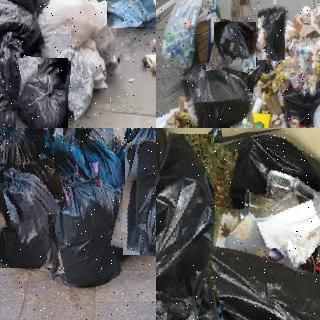Garbage: (169, 128, 320, 320), (156, 130, 226, 320), (39, 171, 119, 288), (0, 163, 59, 269), (0, 128, 63, 224), (183, 58, 252, 128), (116, 140, 156, 258), (52, 128, 126, 187), (17, 57, 69, 128), (0, 0, 41, 60), (212, 20, 259, 71), (0, 30, 27, 113), (256, 4, 287, 61), (106, 0, 156, 27), (62, 128, 120, 150), (0, 0, 55, 16)
